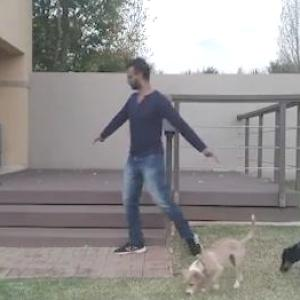land: (88, 53, 229, 258)
